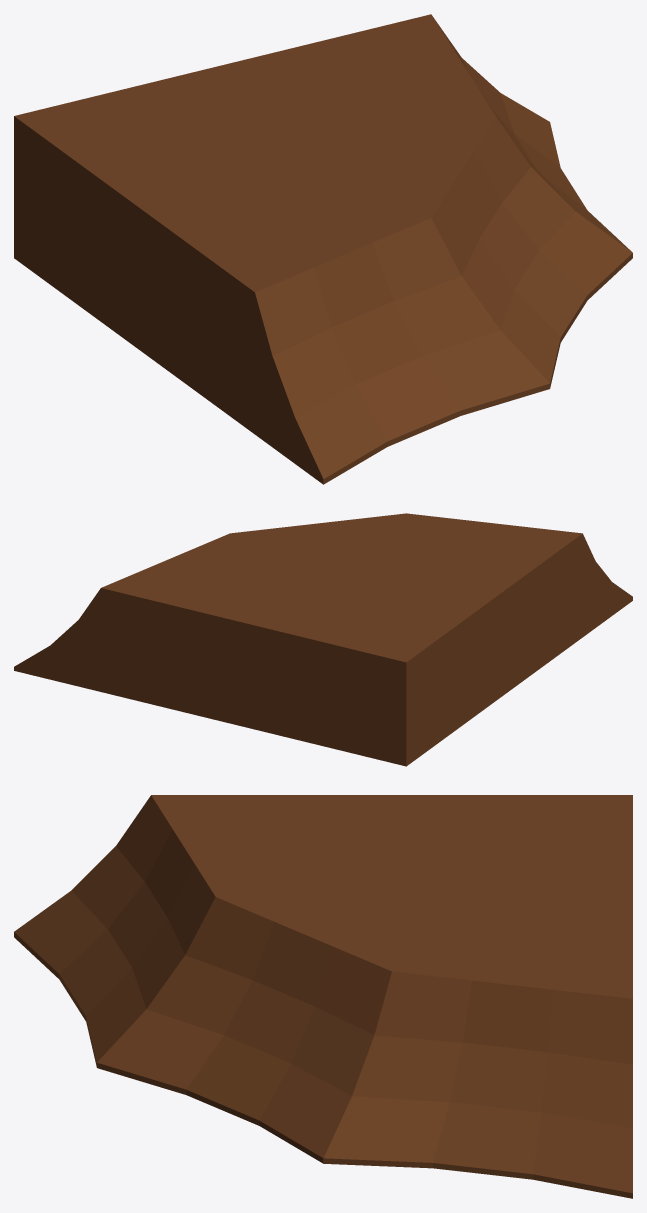
File: Dach_3.fbx
The picture shows the model from 3 angles, top to bottom: view 1: azimuth 30°, elevation 25°; view 2: azimuth 150°, elevation 25°; view 3: azimuth 270°, elevation 25°; orthographic projection. The views are drawn at different scales.
Visible parts, largest first — view 1: Dach_3_drittel; view 2: Dach_3_drittel; view 3: Dach_3_drittel.
Part boxes in pixels (box(x1,y1,x2,y2)): Dach_3_drittel: box(14, 14, 632, 484); Dach_3_drittel: box(14, 513, 632, 766); Dach_3_drittel: box(14, 795, 632, 1198).
Bounding box in the file's own units: 1026 × 260 × 1026.
